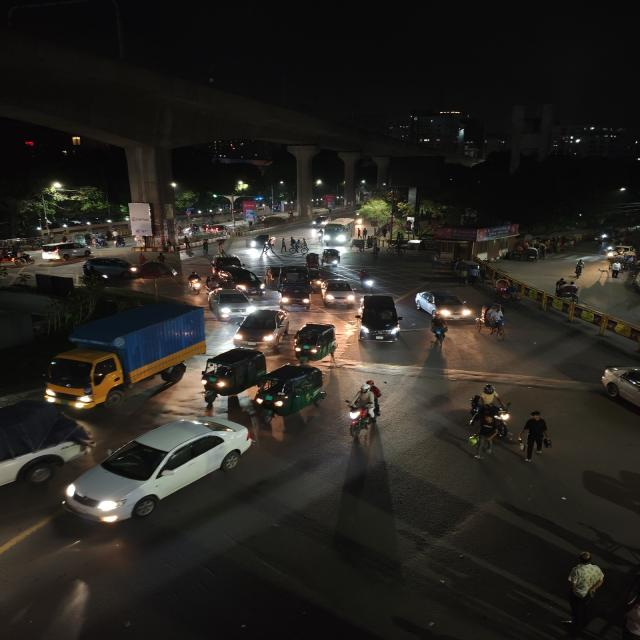bicycle: (426, 318, 452, 347), (386, 241, 408, 256)
bus: (321, 218, 353, 247)
car: (57, 414, 255, 528), (0, 398, 91, 501), (596, 362, 640, 433), (355, 292, 402, 346), (230, 307, 290, 349), (414, 288, 473, 322), (78, 255, 142, 283), (207, 287, 254, 321), (276, 269, 314, 311), (216, 267, 268, 296), (319, 276, 357, 308), (38, 241, 90, 261), (209, 254, 244, 271), (248, 233, 276, 249)
cng: (251, 362, 328, 424), (199, 347, 266, 403), (291, 320, 340, 364), (320, 246, 344, 268)
motorcycle: (341, 376, 389, 439), (466, 381, 516, 437), (357, 268, 377, 291), (186, 271, 204, 295), (203, 274, 220, 294), (14, 250, 34, 267)
pedestrian: (558, 550, 610, 614), (517, 409, 550, 463), (469, 420, 499, 460), (571, 257, 587, 279), (369, 245, 384, 262), (200, 238, 212, 256), (214, 238, 226, 255), (182, 236, 191, 250)
rickshaw: (478, 301, 510, 340), (551, 278, 583, 300), (507, 242, 541, 261), (491, 276, 517, 300), (301, 251, 325, 270)
truck: (37, 299, 209, 413)
